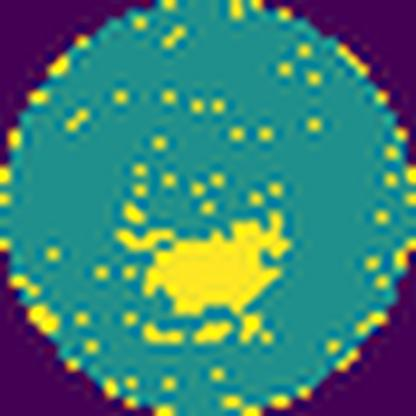Loc: (128, 204, 292, 341)
